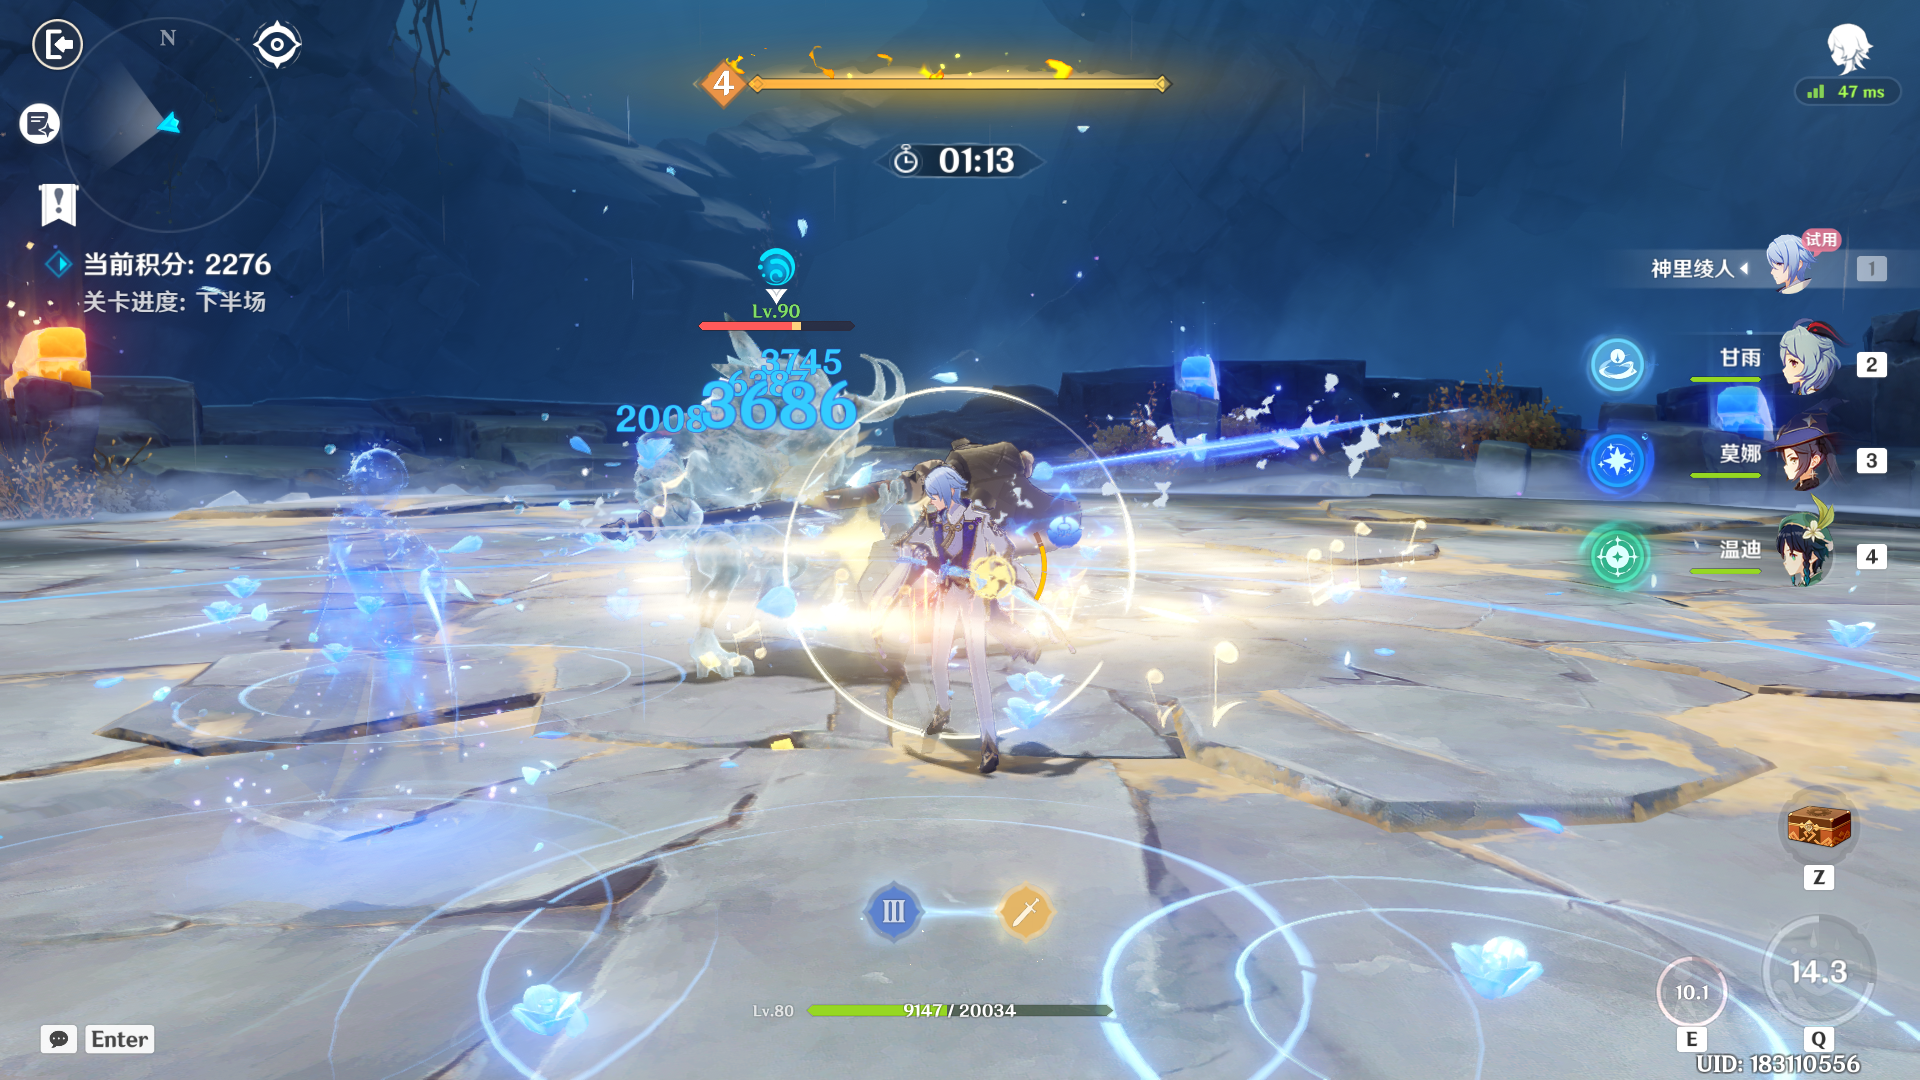bighili: (593, 313, 909, 717)
character: (843, 448, 1065, 823)
